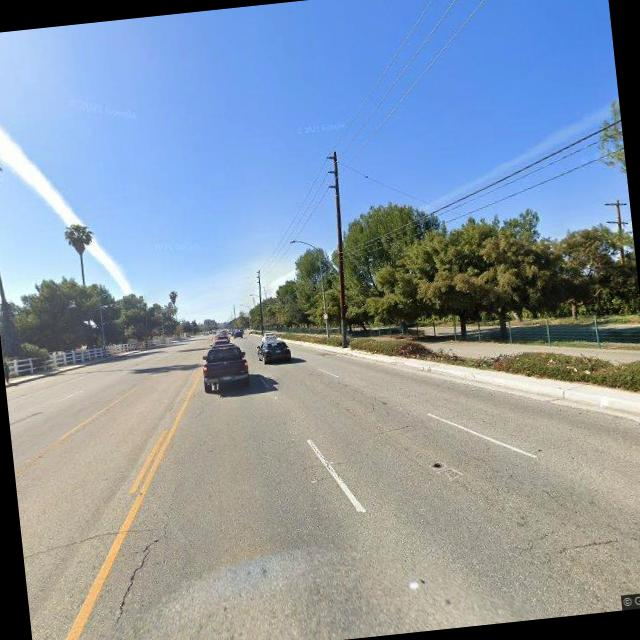crack: (100, 520, 176, 628), (20, 521, 144, 565), (304, 432, 335, 480)
